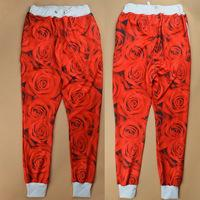C_W_pants: (15, 4, 104, 199), (111, 2, 188, 199)
